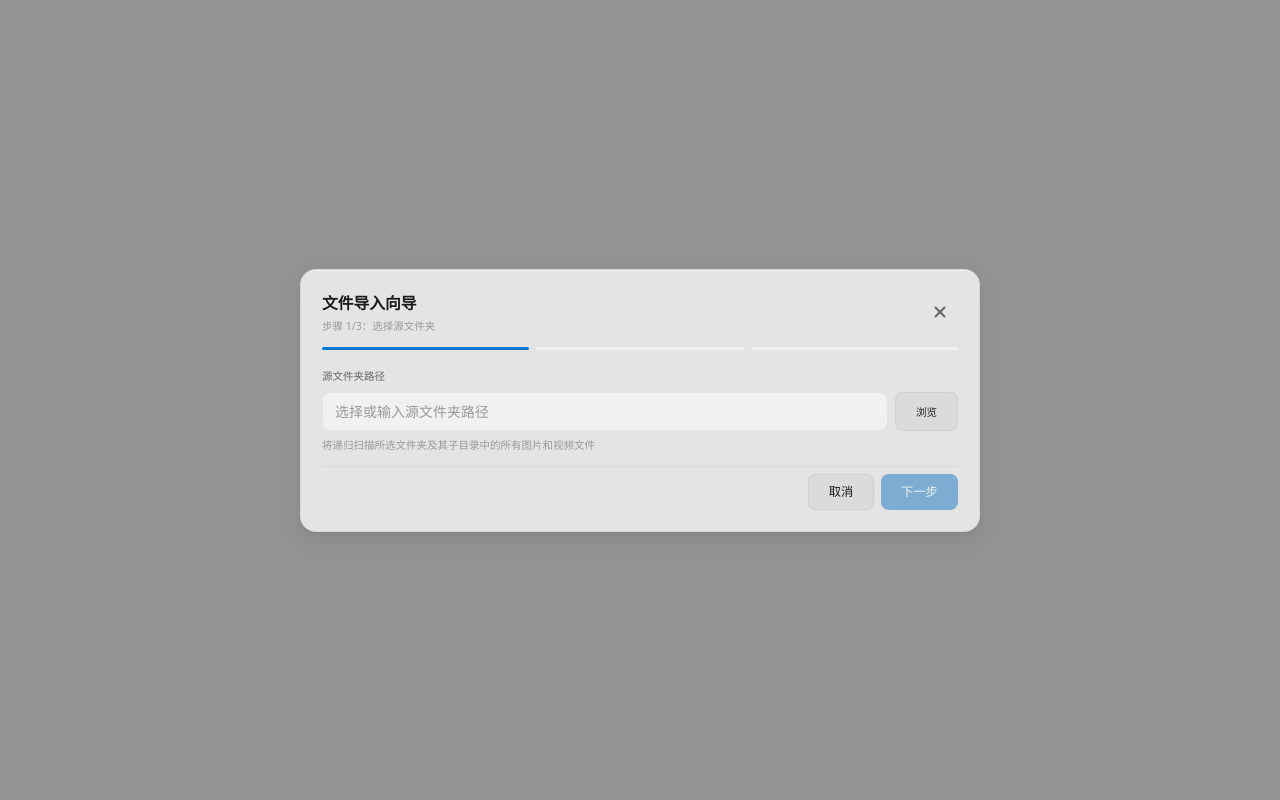
it: ImportWizard › 正常流程 › C1: 扫描成功默认全选，步骤 2“下一步”可用（不依赖目标目录）
Click the button "浏览". click: [926, 412]
box: [895, 392, 958, 431]
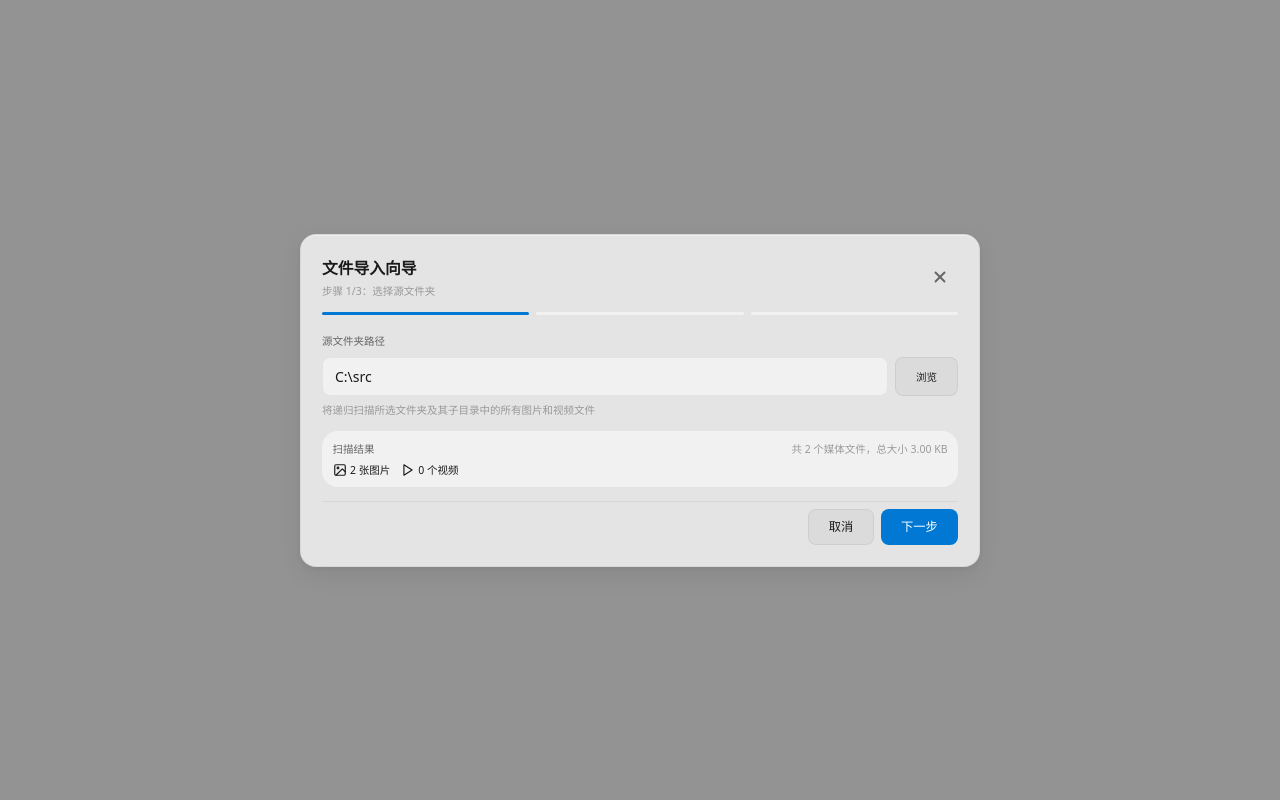
Now the button "下一步" is enabled
Click the button "下一步". click: [920, 527]
box: [881, 509, 958, 544]
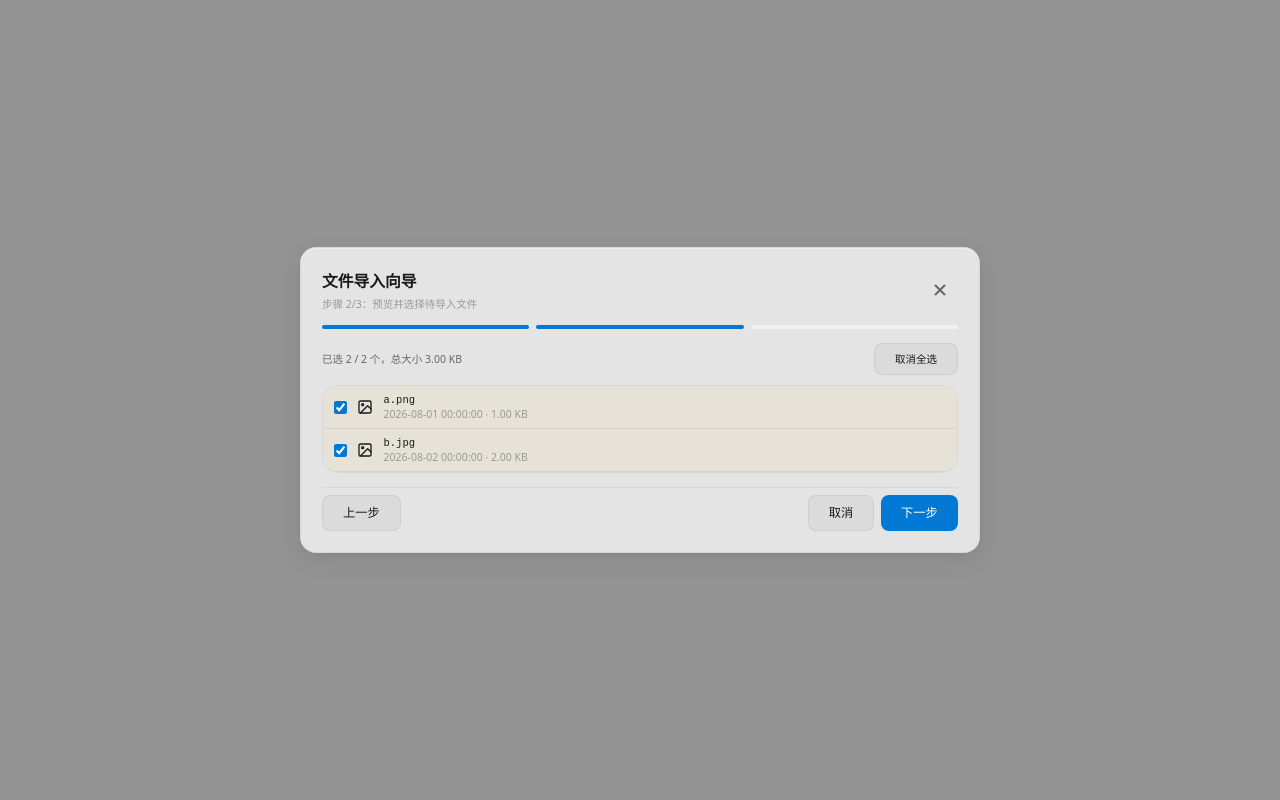
Now the text "步骤 2/3：预览并选择待导入文件" is shown, box [322, 297, 477, 311]
Now the text "a.png" is shown, box [384, 394, 415, 406]
Now the text "b.jpg" is shown, box [384, 437, 415, 449]
